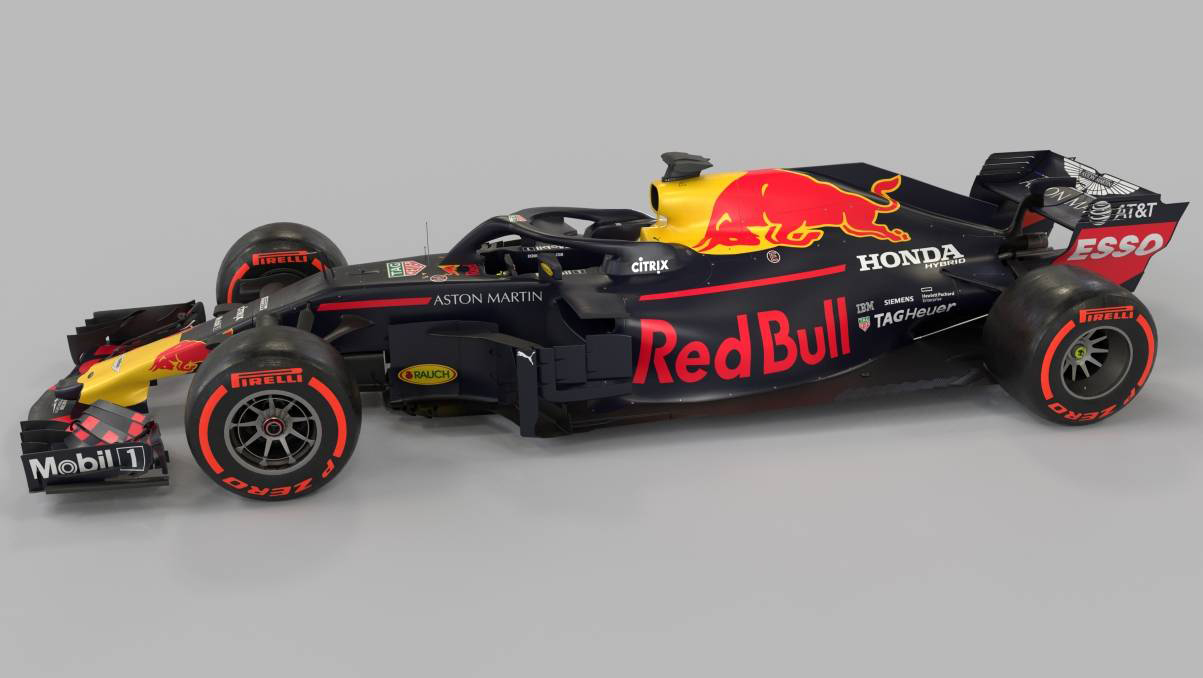F1 Car: (16, 135, 1203, 511)
